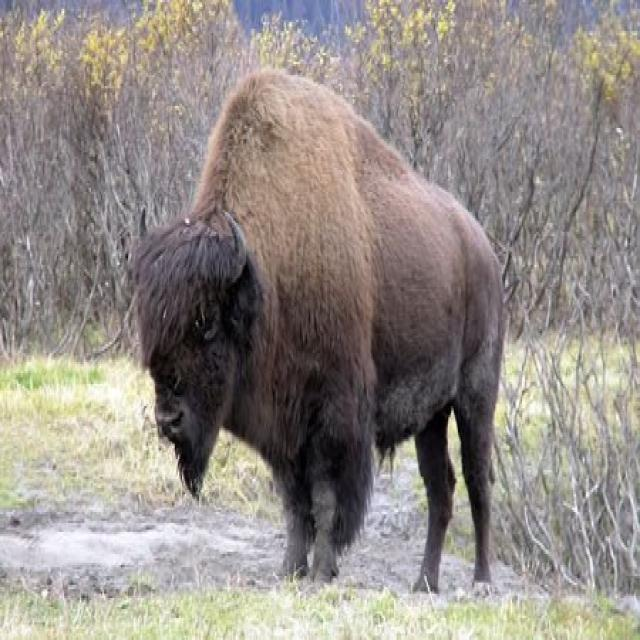Bison: (130, 59, 523, 616)
